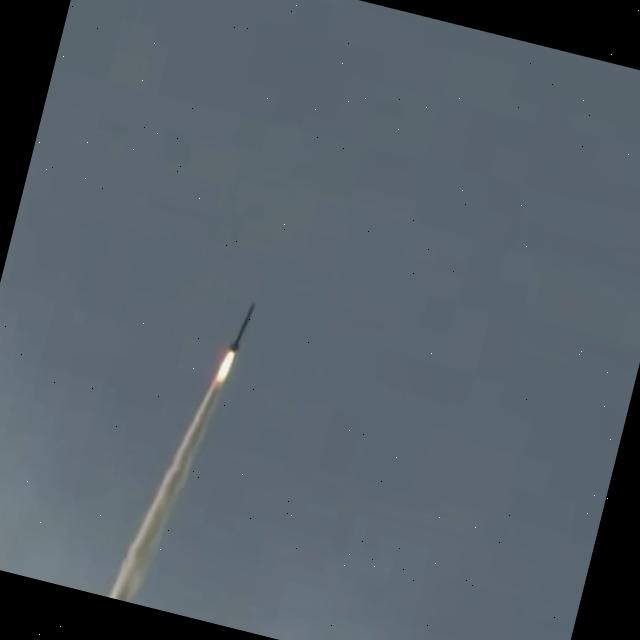rocket: (227, 304, 255, 350)
smoke_trail_with_rocket: (106, 304, 254, 603)
